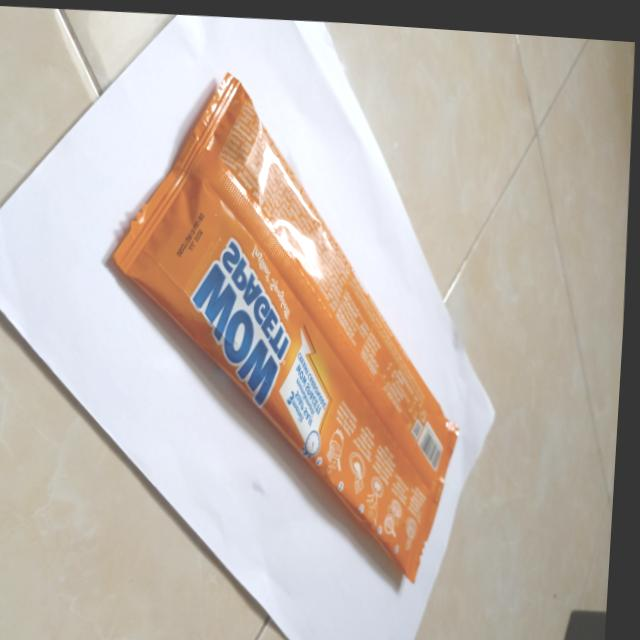indomie-tori-miso: (96, 55, 485, 584)
